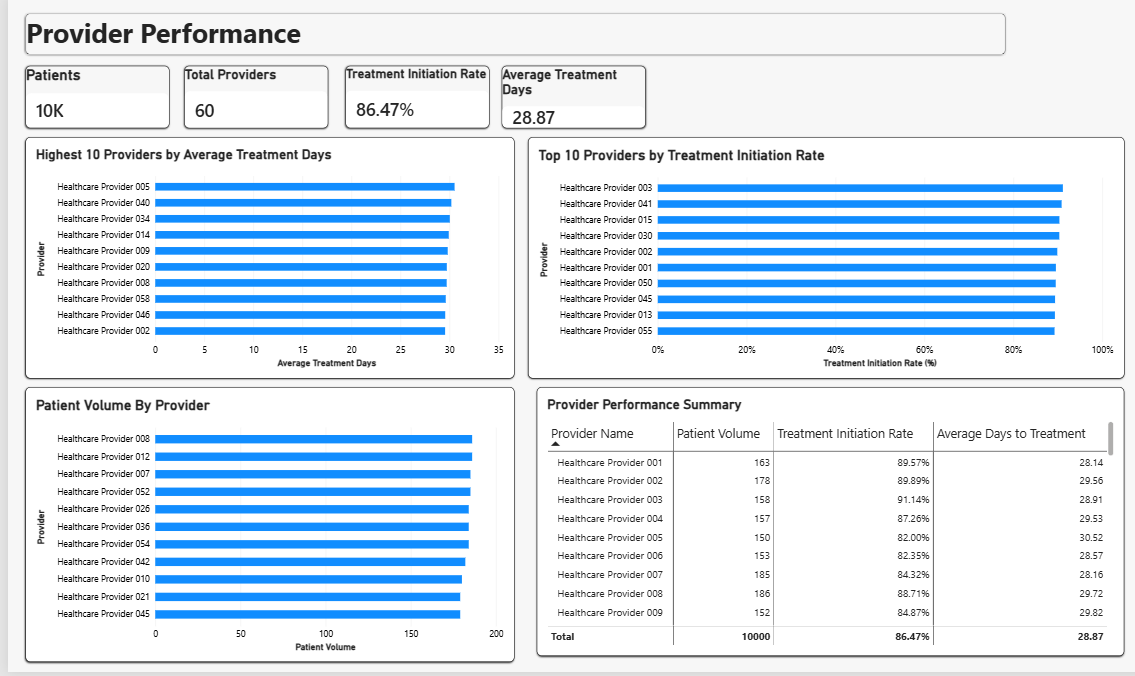

Layout of this report page (visuals, bound fields, positions):
{"tool":"powerbi","page":{"name":"Provider Performance","canvas":[1920,1080],"ordinal":3},"visuals":[{"type":"cardVisual","title":"Total Providers","fields":{"Data":["Count(final_patient_analytics.provider_id)"]},"box":[226.2,108.6,180,100],"z":0},{"type":"cardVisual","title":"Patients","fields":{"Data":["Count(access_events.patient_id)"]},"box":[28.6,110,180,100],"z":1000},{"type":"cardVisual","title":"Treatment Initiation Rate","fields":{"Data":["final_patient_analytics.Treatment Initiation Rate"]},"box":[428.9,108.6,180,100],"z":2000},{"type":"cardVisual","title":"Average Treatment Days","fields":{"Data":["final_patient_analytics.Average Days to Treatment"]},"box":[629.8,108.6,180,100],"z":3000},{"type":"clusteredBarChart","title":"Treatment Initiation Rate by Provider","fields":{"Category":["final_patient_analytics.provider_name"],"Y":["final_patient_analytics.Treatment Initiation Rate"]},"box":[841.5,108.6,756.4,430.7],"z":4000},{"type":"clusteredBarChart","fields":{"Category":["final_patient_analytics.provider_name"],"Y":["final_patient_analytics.Average Days to Treatment"]},"box":[29,591.8,723.9,466.9],"z":5000},{"type":"textbox","box":[29,25.3,1567.2,67],"z":6000}]}

Visuals, with their boxes on the page's 1920x1080 design canvas (x1, y1, x2, y2). These are canvas units, not pixel positions in the 1135x676 screenshot, which may show the page scaled, cropped or inside an application window:
"Total Providers" cardVisual: [left=226, top=109, right=406, bottom=209]
"Patients" cardVisual: [left=29, top=110, right=209, bottom=210]
"Treatment Initiation Rate" cardVisual: [left=429, top=109, right=609, bottom=209]
"Average Treatment Days" cardVisual: [left=630, top=109, right=810, bottom=209]
"Treatment Initiation Rate by Provider" clusteredBarChart: [left=842, top=109, right=1598, bottom=539]
clusteredBarChart - final_patient_analytics.provider_name x final_patient_analytics.Average Days to Treatment: [left=29, top=592, right=753, bottom=1059]
textbox: [left=29, top=25, right=1596, bottom=92]
